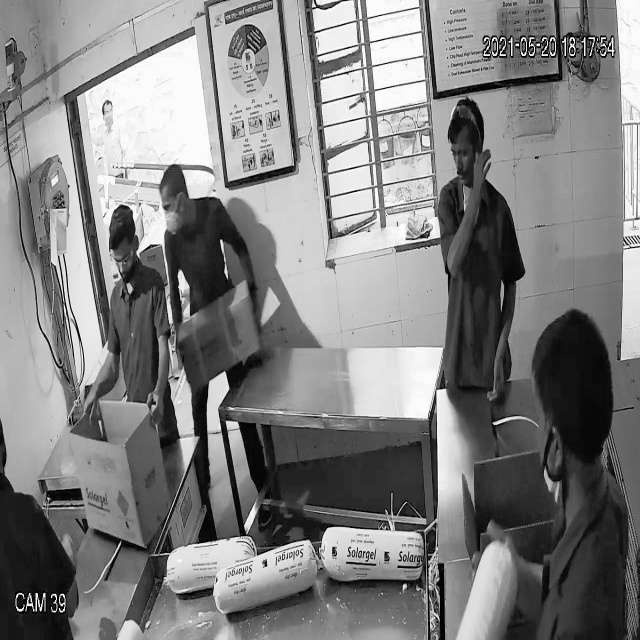Gafas: (106, 243, 143, 273)
Sin_gafas: (158, 190, 189, 214), (448, 140, 476, 164)
